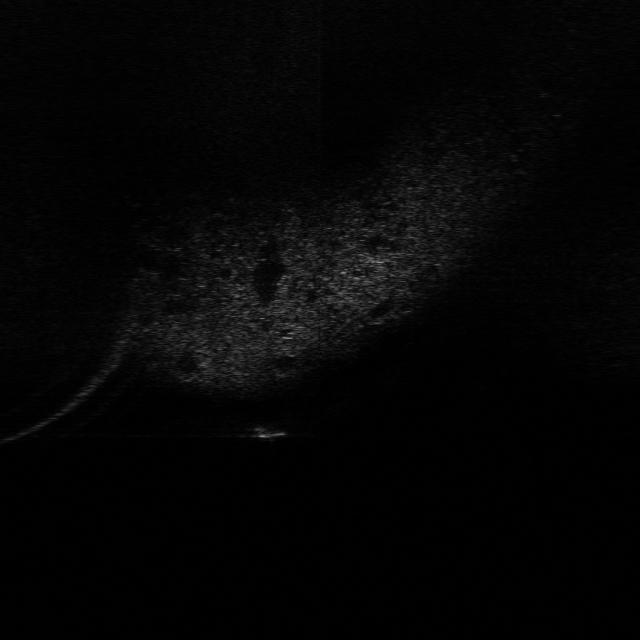cube: (246, 418, 292, 442)
